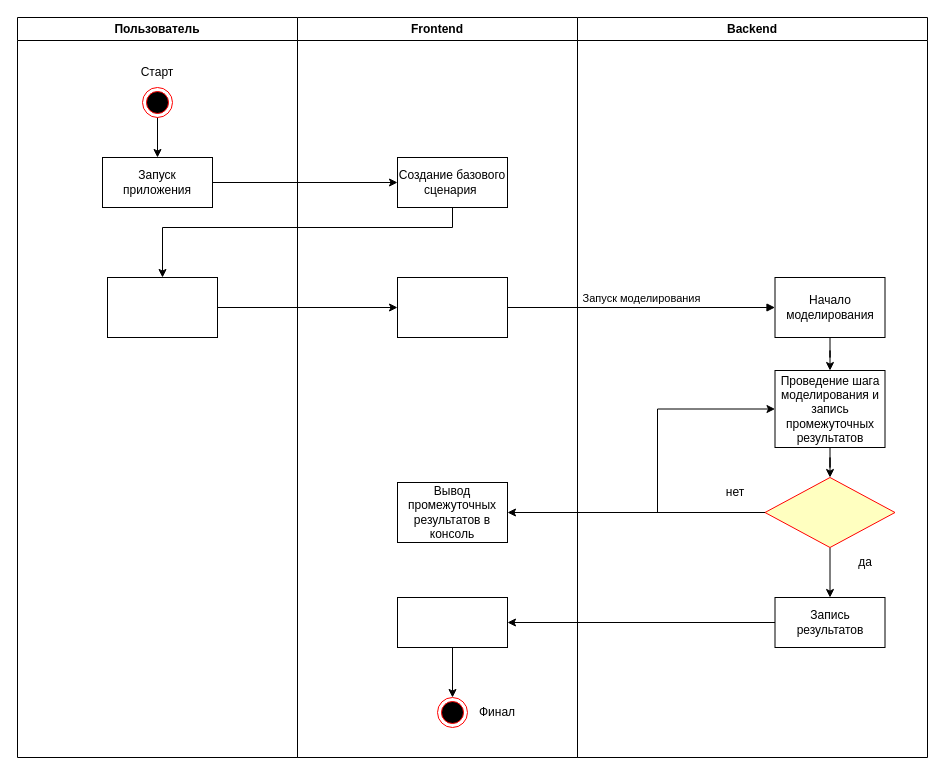
Image size: 945x775. Some labels were removed from this diagram. The shapes that lost their labels are listed below. From the top down, each one's box as (x1, y1, x2, y2) in pixels, then its label:
(106, 276, 218, 338): Ввод изменений базового сценария
(396, 276, 508, 338): Подготовка входных данных для моделирования
(764, 476, 895, 548): Моделирование завершено
(396, 596, 508, 648): Отображение результатов на карте
